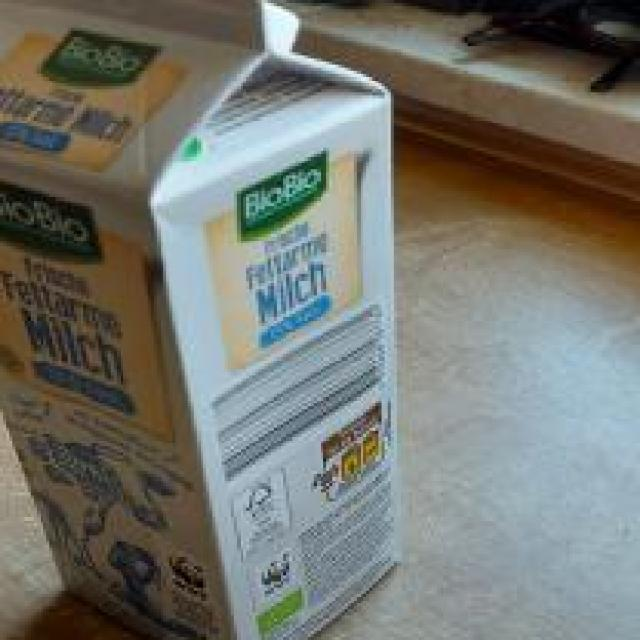milk: (0, 0, 412, 640)
